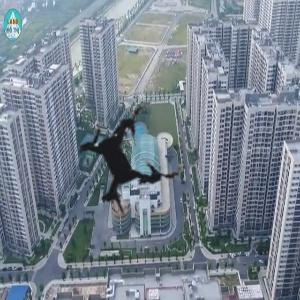drone: (35, 68, 217, 250)
